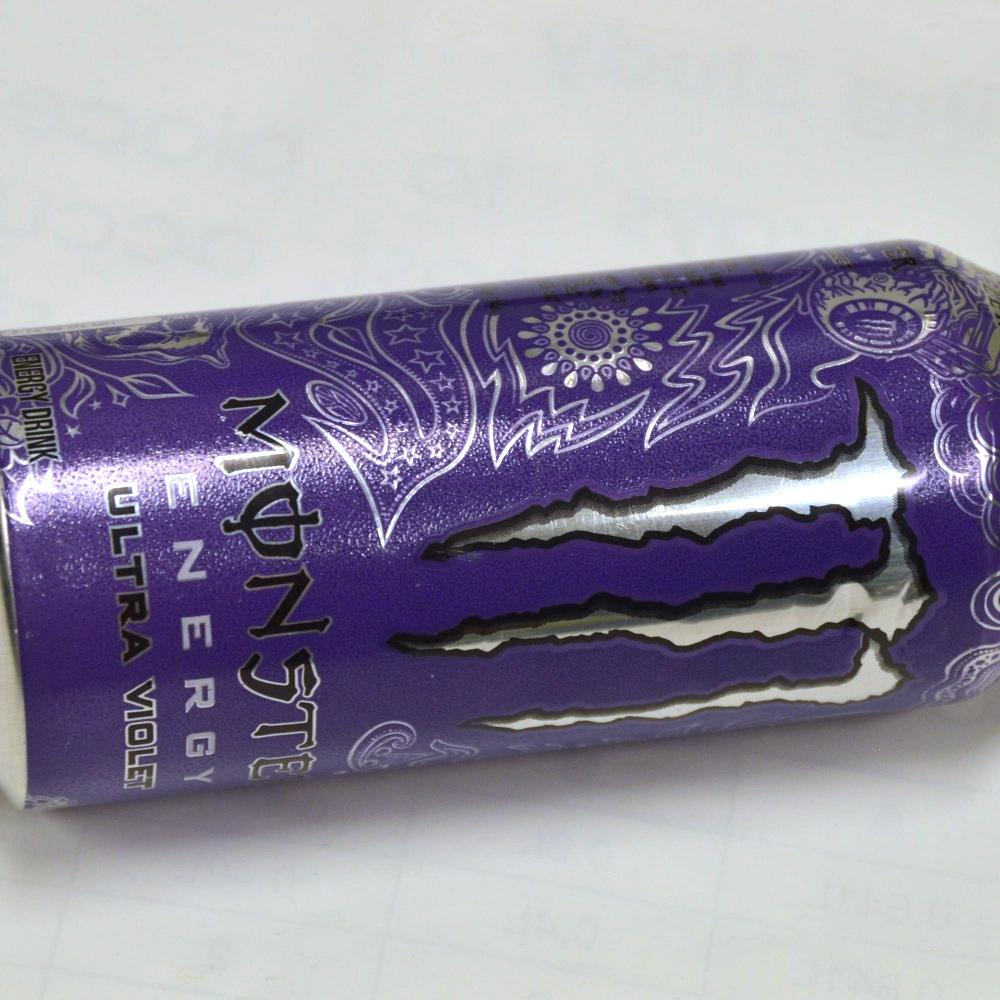Metal: (1, 250, 998, 777)
